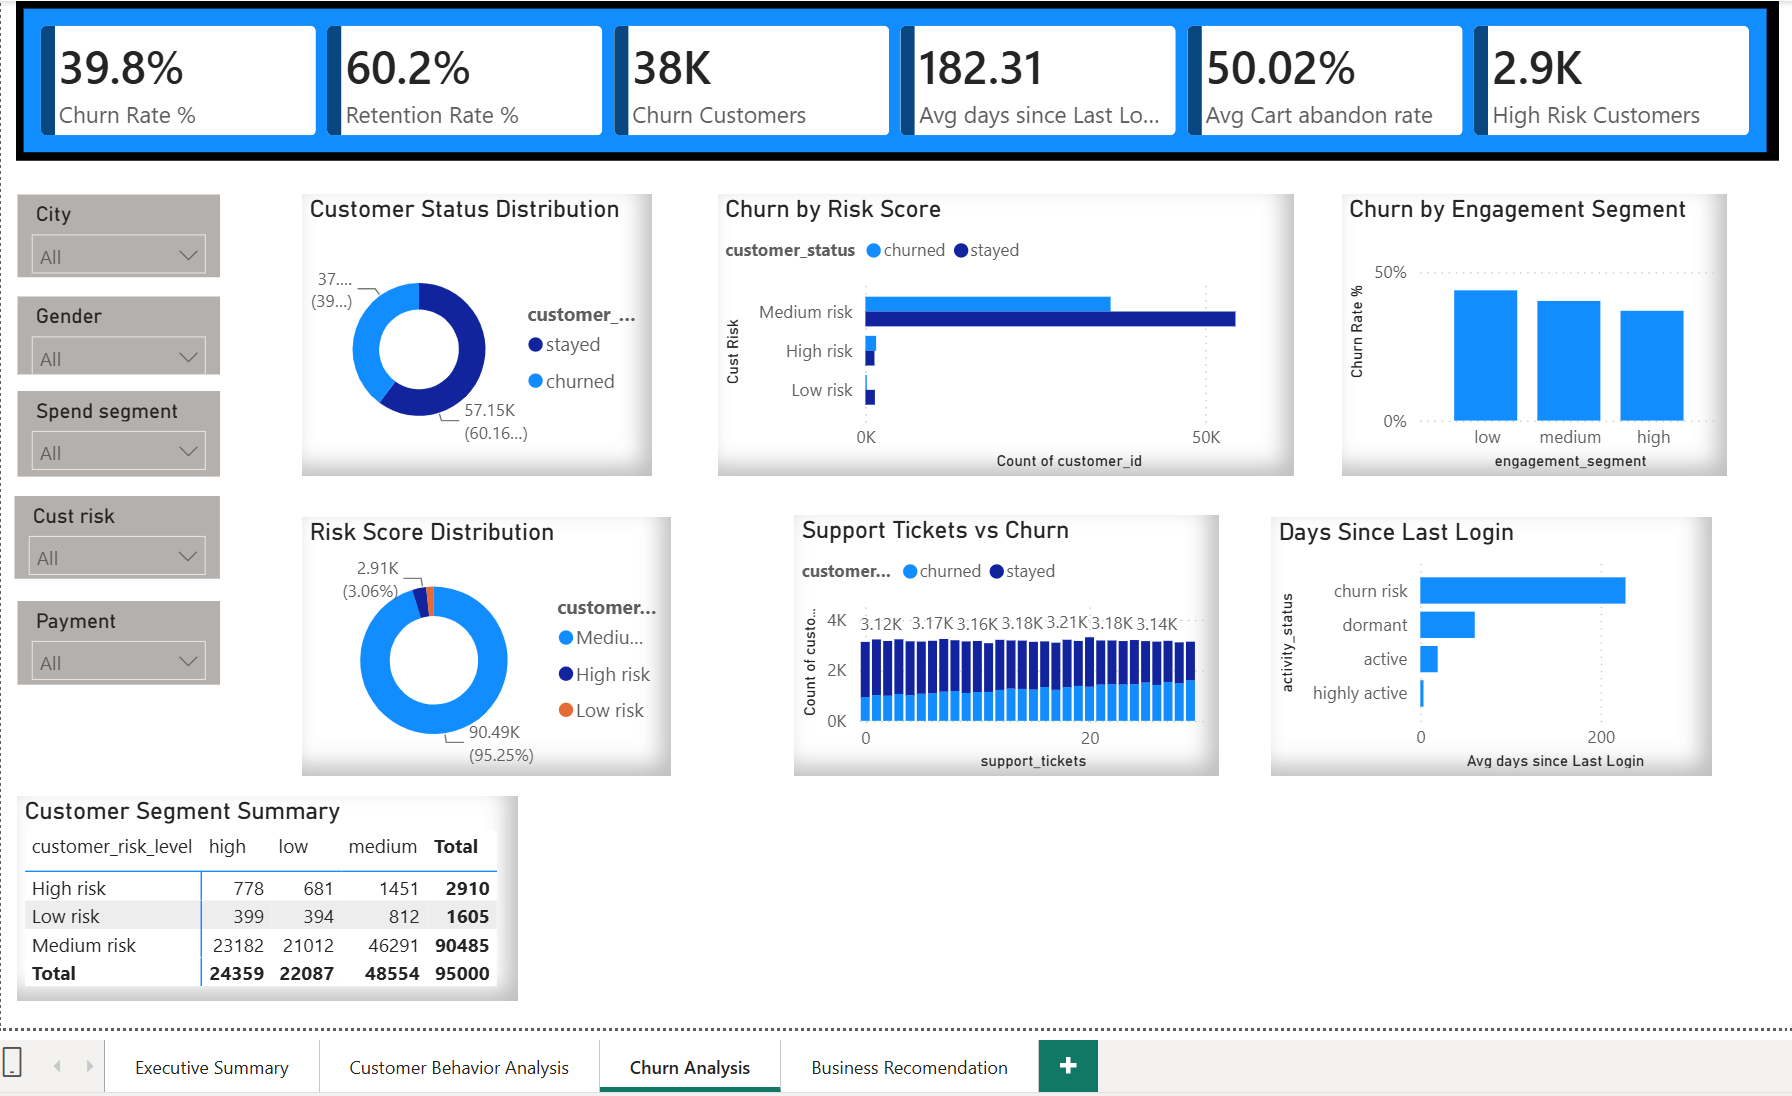

This screenshot's page, from the dashboard's own definition file:
{"tool":"powerbi","page":{"name":"Churn Analysis","canvas":[1280,720],"ordinal":2},"visuals":[{"type":"cardVisual","fields":{"Data":["SQL_data.Churn Rate %","SQL_data.Retention Rate %","SQL_data.Churn Customers","SQL_data.Avg days since Last Login","SQL_data.Avg Cart abandon rate","SQL_data.High Risk Customers"]},"box":[10.5,0,1235.7,111.9],"z":0},{"type":"donutChart","title":"Customer Status Distribution","fields":{"Category":["SQL_data.customer_status"],"Y":["Count(SQL_data.customer_id)"]},"box":[211.7,135.8,245.7,197.2],"z":1000},{"type":"clusteredBarChart","title":"Churn by Risk Score","fields":{"Y":["Count(SQL_data.customer_id)"],"Series":["SQL_data.customer_status"],"Category":["SQL_data.customer_risk_score"]},"box":[502.6,135.8,404,197.2],"z":2000},{"type":"columnChart","title":"Churn by Engagement Segment","fields":{"Category":["SQL_data.engagement_segment"],"Y":["SQL_data.Churn Rate %"]},"box":[940.6,135.8,269.9,197.2],"z":3000},{"type":"barChart","title":"Days Since Last Login","fields":{"Category":["SQL_data.activity_status"],"Y":["SQL_data.Avg days since Last Login"]},"box":[890.5,362,308.7,181],"z":4000},{"type":"donutChart","title":"Risk Score Distribution","fields":{"Y":["Count(SQL_data.customer_id)"],"Category":["SQL_data.customer_risk_score"]},"box":[211.7,362,258.6,181],"z":5000},{"type":"columnChart","title":"Support Tickets vs Churn","fields":{"Category":["SQL_data.support_tickets"],"Y":["Count(SQL_data.customer_id)"],"Series":["SQL_data.customer_status"]},"box":[556,360.4,297.4,182.6],"z":6000},{"type":"slicer","fields":{"Values":["SQL_data.city"]},"box":[11.3,135.8,142.2,58.2],"z":7000},{"type":"slicer","fields":{"Values":["SQL_data.gender"]},"box":[11.3,206.9,142.2,54.9],"z":8000},{"type":"slicer","fields":{"Values":["SQL_data.spending_segment"]},"box":[11.3,273.1,142.2,59.8],"z":9000},{"type":"slicer","fields":{"Values":["SQL_data.payment_method"]},"box":[11.1,420.6,142.1,58.8],"z":10000},{"type":"slicer","fields":{"Values":["SQL_data.customer_risk_score"]},"box":[9.7,347.5,143.8,58.2],"z":11000},{"type":"pivotTable","title":"Customer Segment Summary","fields":{"Rows":["SQL_data.customer_risk_score"],"Columns":["SQL_data.spending_segment"],"Values":["Count(SQL_data.customer_id)"]},"box":[11.3,557.6,350.7,143.8],"z":12000}]}

Visuals, with their boxes on the page's 1280x720 design canvas (x1, y1, x2, y2). These are canvas units, not pixel positions in the 1792x1096 screenshot, which may show the page scaled, cropped or inside an application window:
cardVisual - SQL_data.Churn Rate % x SQL_data.Retention Rate %: [left=10, top=0, right=1246, bottom=112]
"Customer Status Distribution" donutChart: [left=212, top=136, right=457, bottom=333]
"Churn by Risk Score" clusteredBarChart: [left=503, top=136, right=907, bottom=333]
"Churn by Engagement Segment" columnChart: [left=941, top=136, right=1210, bottom=333]
"Days Since Last Login" barChart: [left=890, top=362, right=1199, bottom=543]
"Risk Score Distribution" donutChart: [left=212, top=362, right=470, bottom=543]
"Support Tickets vs Churn" columnChart: [left=556, top=360, right=853, bottom=543]
slicer - SQL_data.city: [left=11, top=136, right=154, bottom=194]
slicer - SQL_data.gender: [left=11, top=207, right=154, bottom=262]
slicer - SQL_data.spending_segment: [left=11, top=273, right=154, bottom=333]
slicer - SQL_data.payment_method: [left=11, top=421, right=153, bottom=479]
slicer - SQL_data.customer_risk_score: [left=10, top=348, right=154, bottom=406]
"Customer Segment Summary" pivotTable: [left=11, top=558, right=362, bottom=701]
